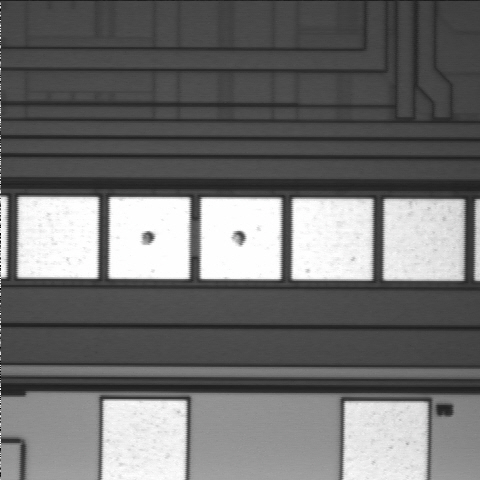pad: (109, 197, 190, 279), (200, 197, 281, 279), (292, 199, 373, 280), (18, 197, 98, 279), (384, 199, 464, 281)
